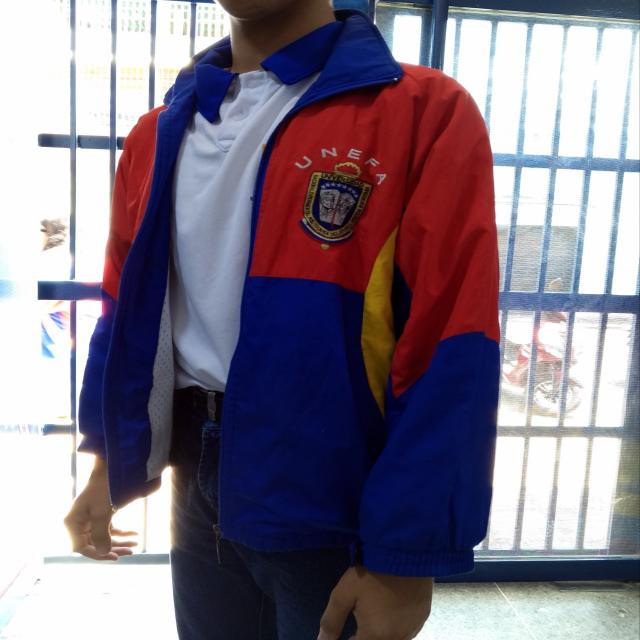chaqueta_unefa: (80, 7, 500, 579)
